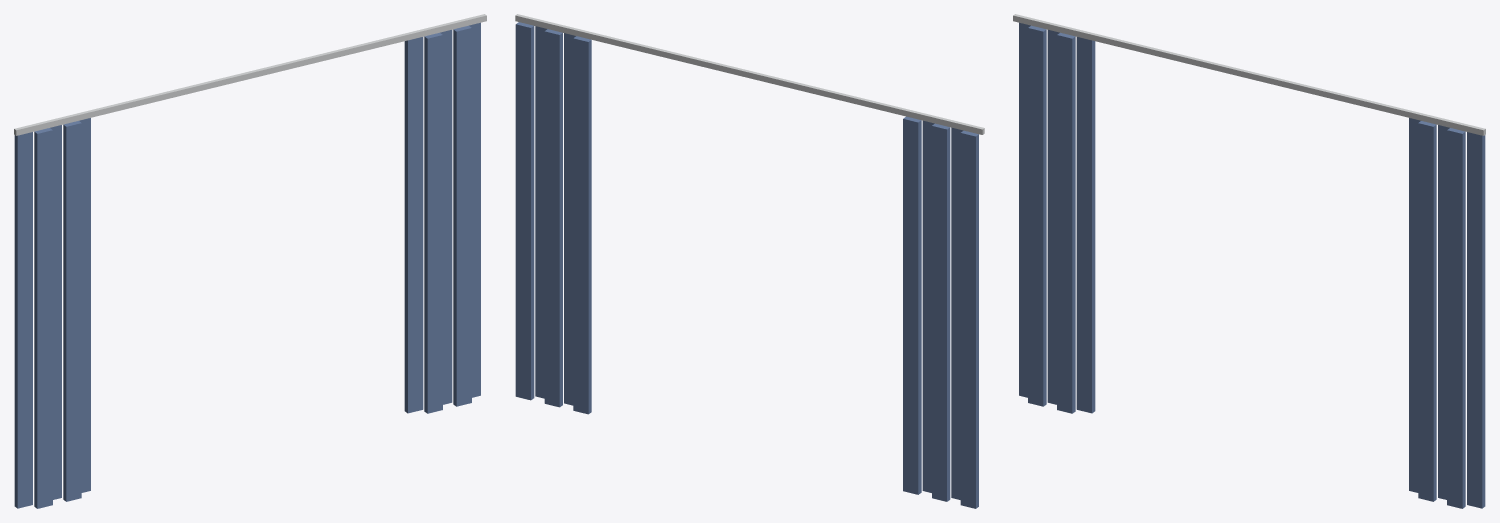
Rendered from Curtain.fbx.
3 renders of one model, left to right at view 1: azimuth 30°, elevation 25°; view 2: azimuth 150°, elevation 25°; view 3: azimuth 330°, elevation 25°, orthographic.
Parts seen in each view (by area): view 1: Curtain; view 2: Curtain; view 3: Curtain.
Part boxes in pixels (bbox=[...]): Curtain: bbox=[14, 14, 486, 508]; Curtain: bbox=[515, 14, 984, 508]; Curtain: bbox=[1013, 14, 1485, 508].
Size of the model in its own units: 2.6 by 2.01 by 0.08.
